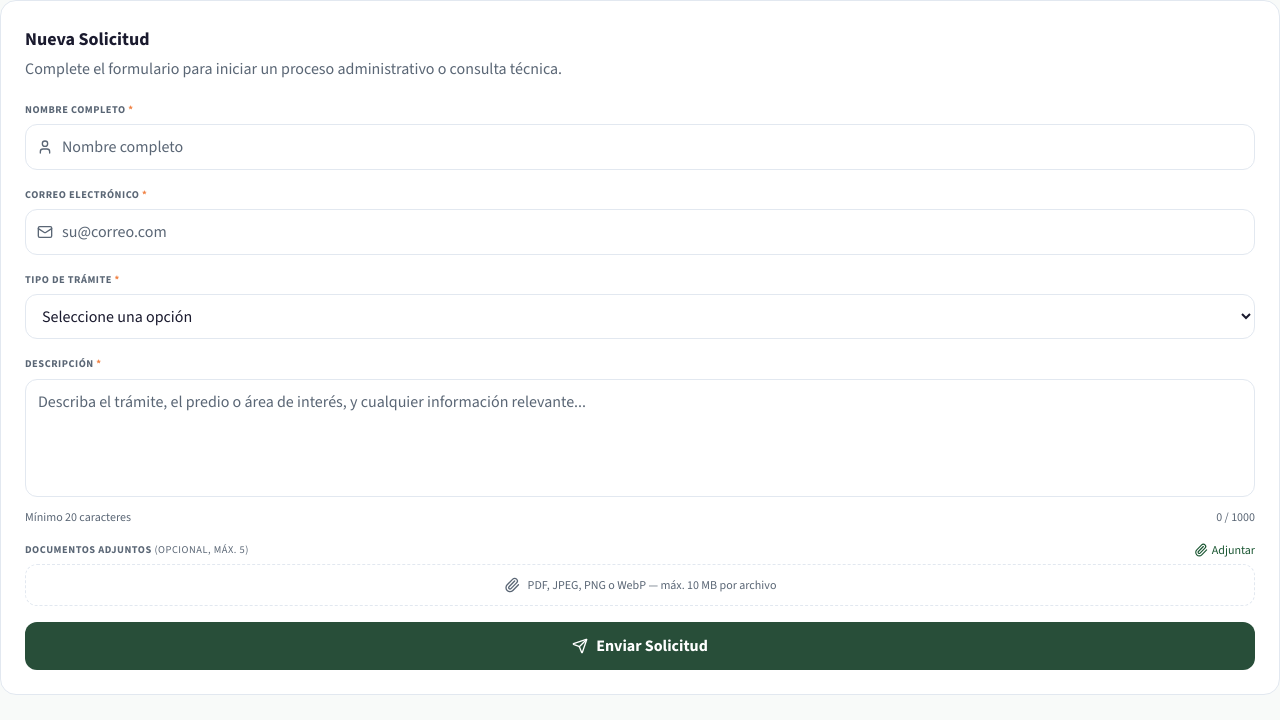
Test case: NuevaSolicitudForm — modal de éxito › tras el éxito, el formulario se limpia
The image size is (1280, 720).
Type "Ana Restrepo" into the field labelled "Nombre Completo *".
click(640, 147); type("Ana Restrepo")  # box left=25, top=124, right=1255, bottom=170
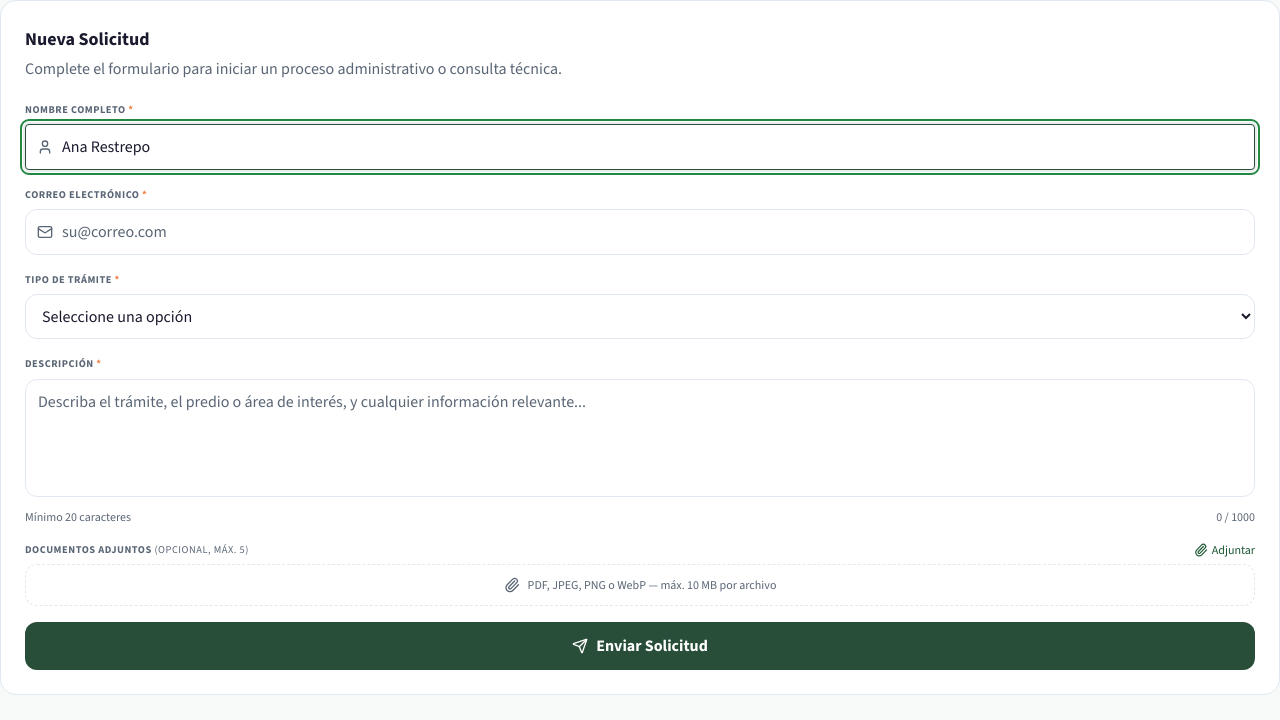
Type "ana@iiap.gov.co" into the field labelled "Correo Electrónico *".
click(640, 232); type("ana@iiap.gov.co")  # box left=25, top=209, right=1255, bottom=255
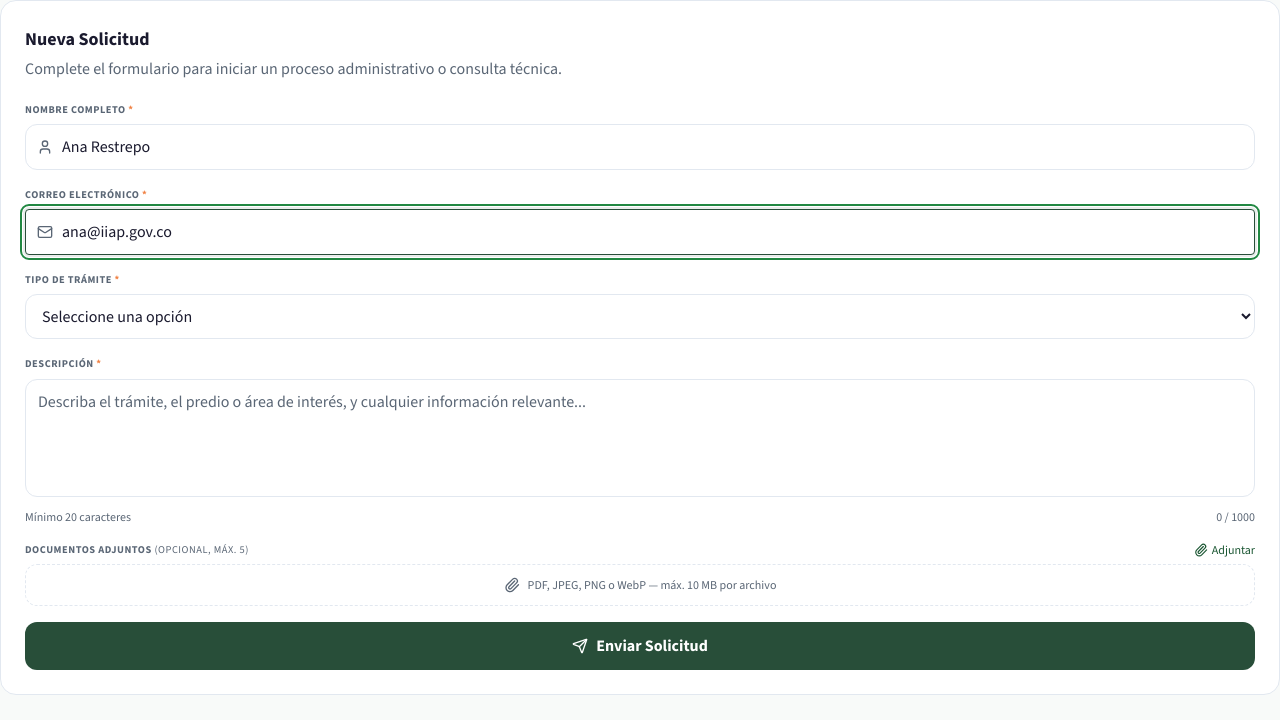
Select "Certificado de Uso de Suelo" in the dropdown labelled "Tipo de Trámite *" at (640,317), box left=25, top=294, right=1255, bottom=340
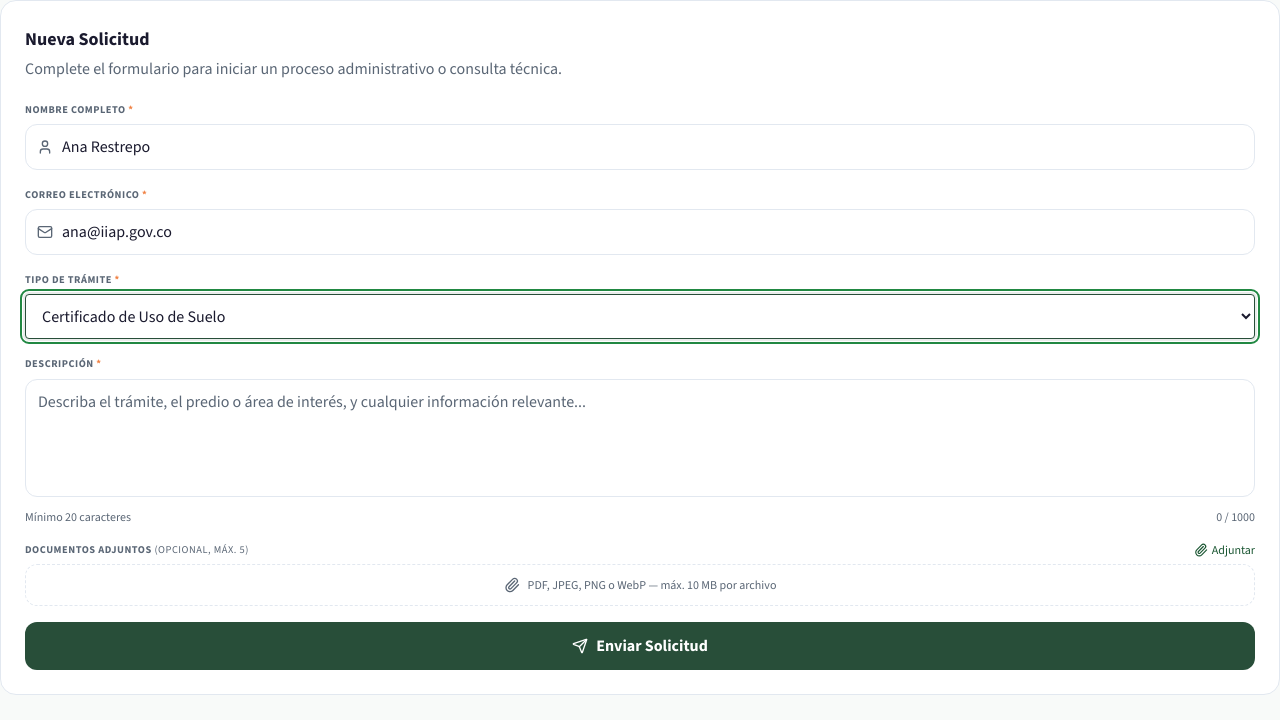
Type "Solicito certificado de uso de suelo para el predio ubicado en la vereda X." into the text box labelled "Descripción *".
click(640, 438); type("Solicito certificado de uso de suelo para el predio ubicado en la vereda X.")  # box left=25, top=379, right=1255, bottom=497
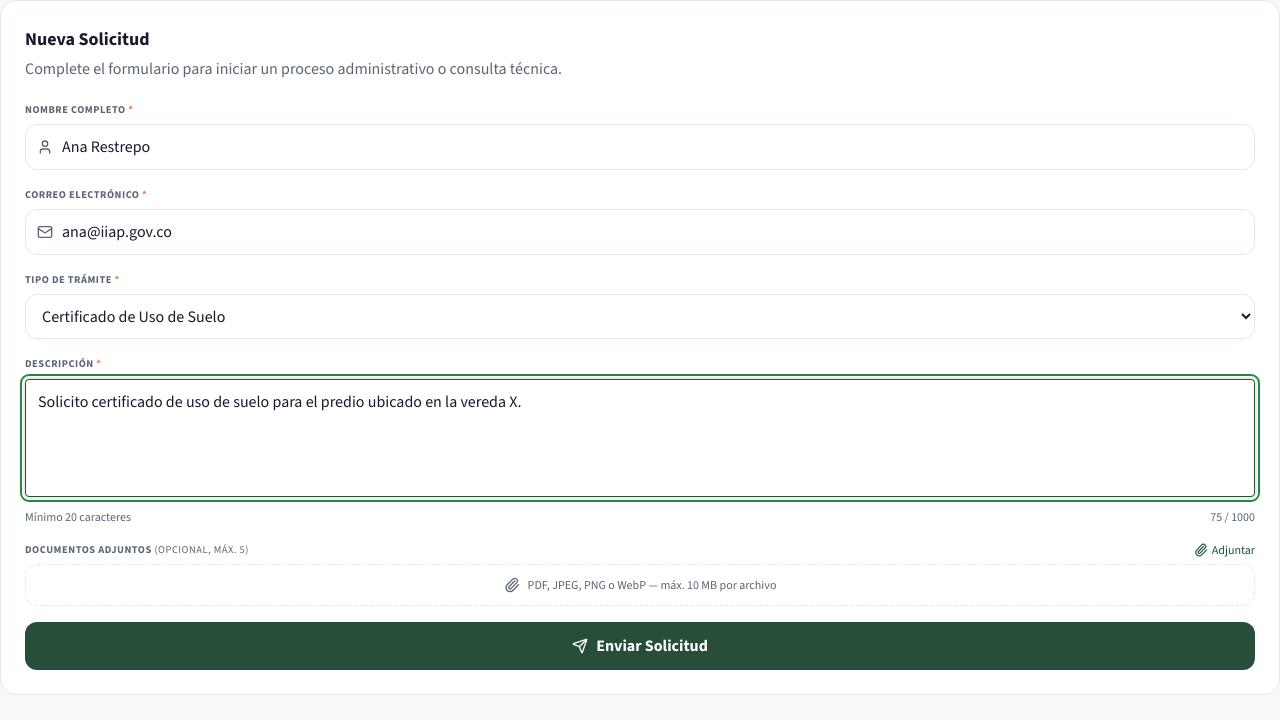
Click the button "Enviar Solicitud".
click(640, 646)  # box left=25, top=622, right=1255, bottom=670
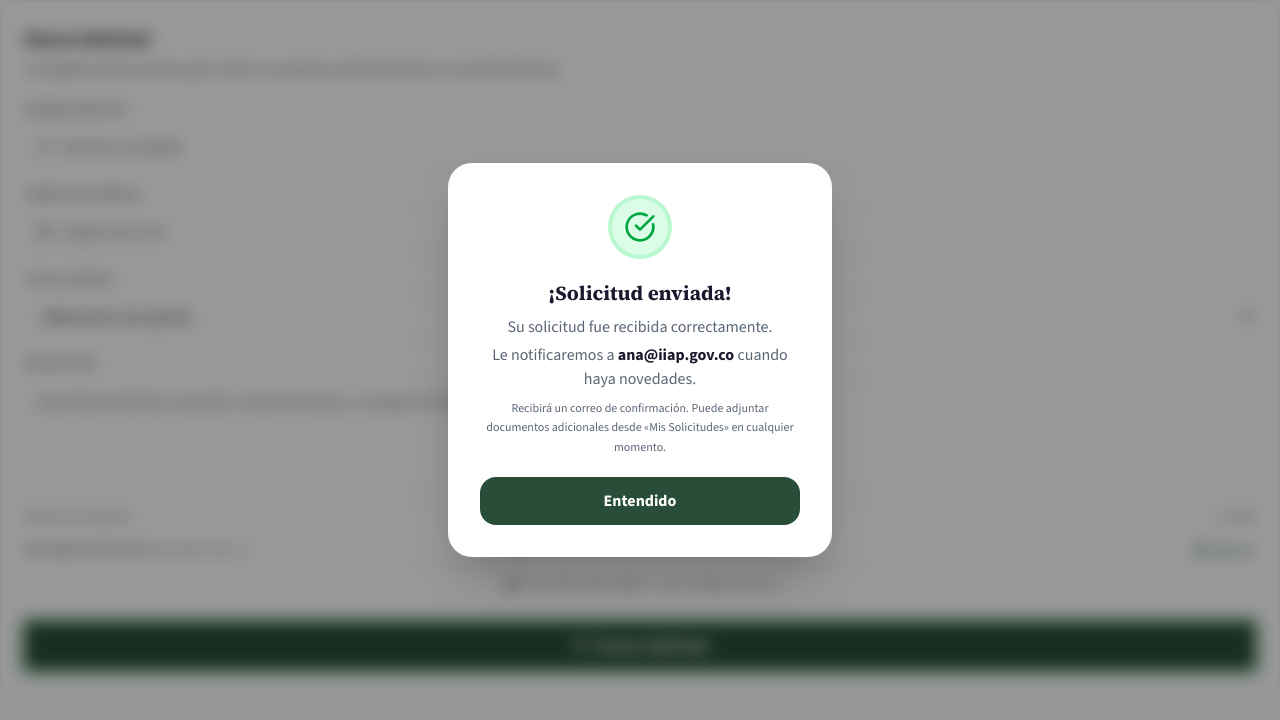
Expected: the heading "¡Solicitud enviada!" is shown, left=548, top=279, right=732, bottom=307
Expected: the field labelled "Nombre Completo *" is empty, left=25, top=124, right=1255, bottom=170
Expected: the text box labelled "Descripción *" is empty, left=25, top=379, right=1255, bottom=497
